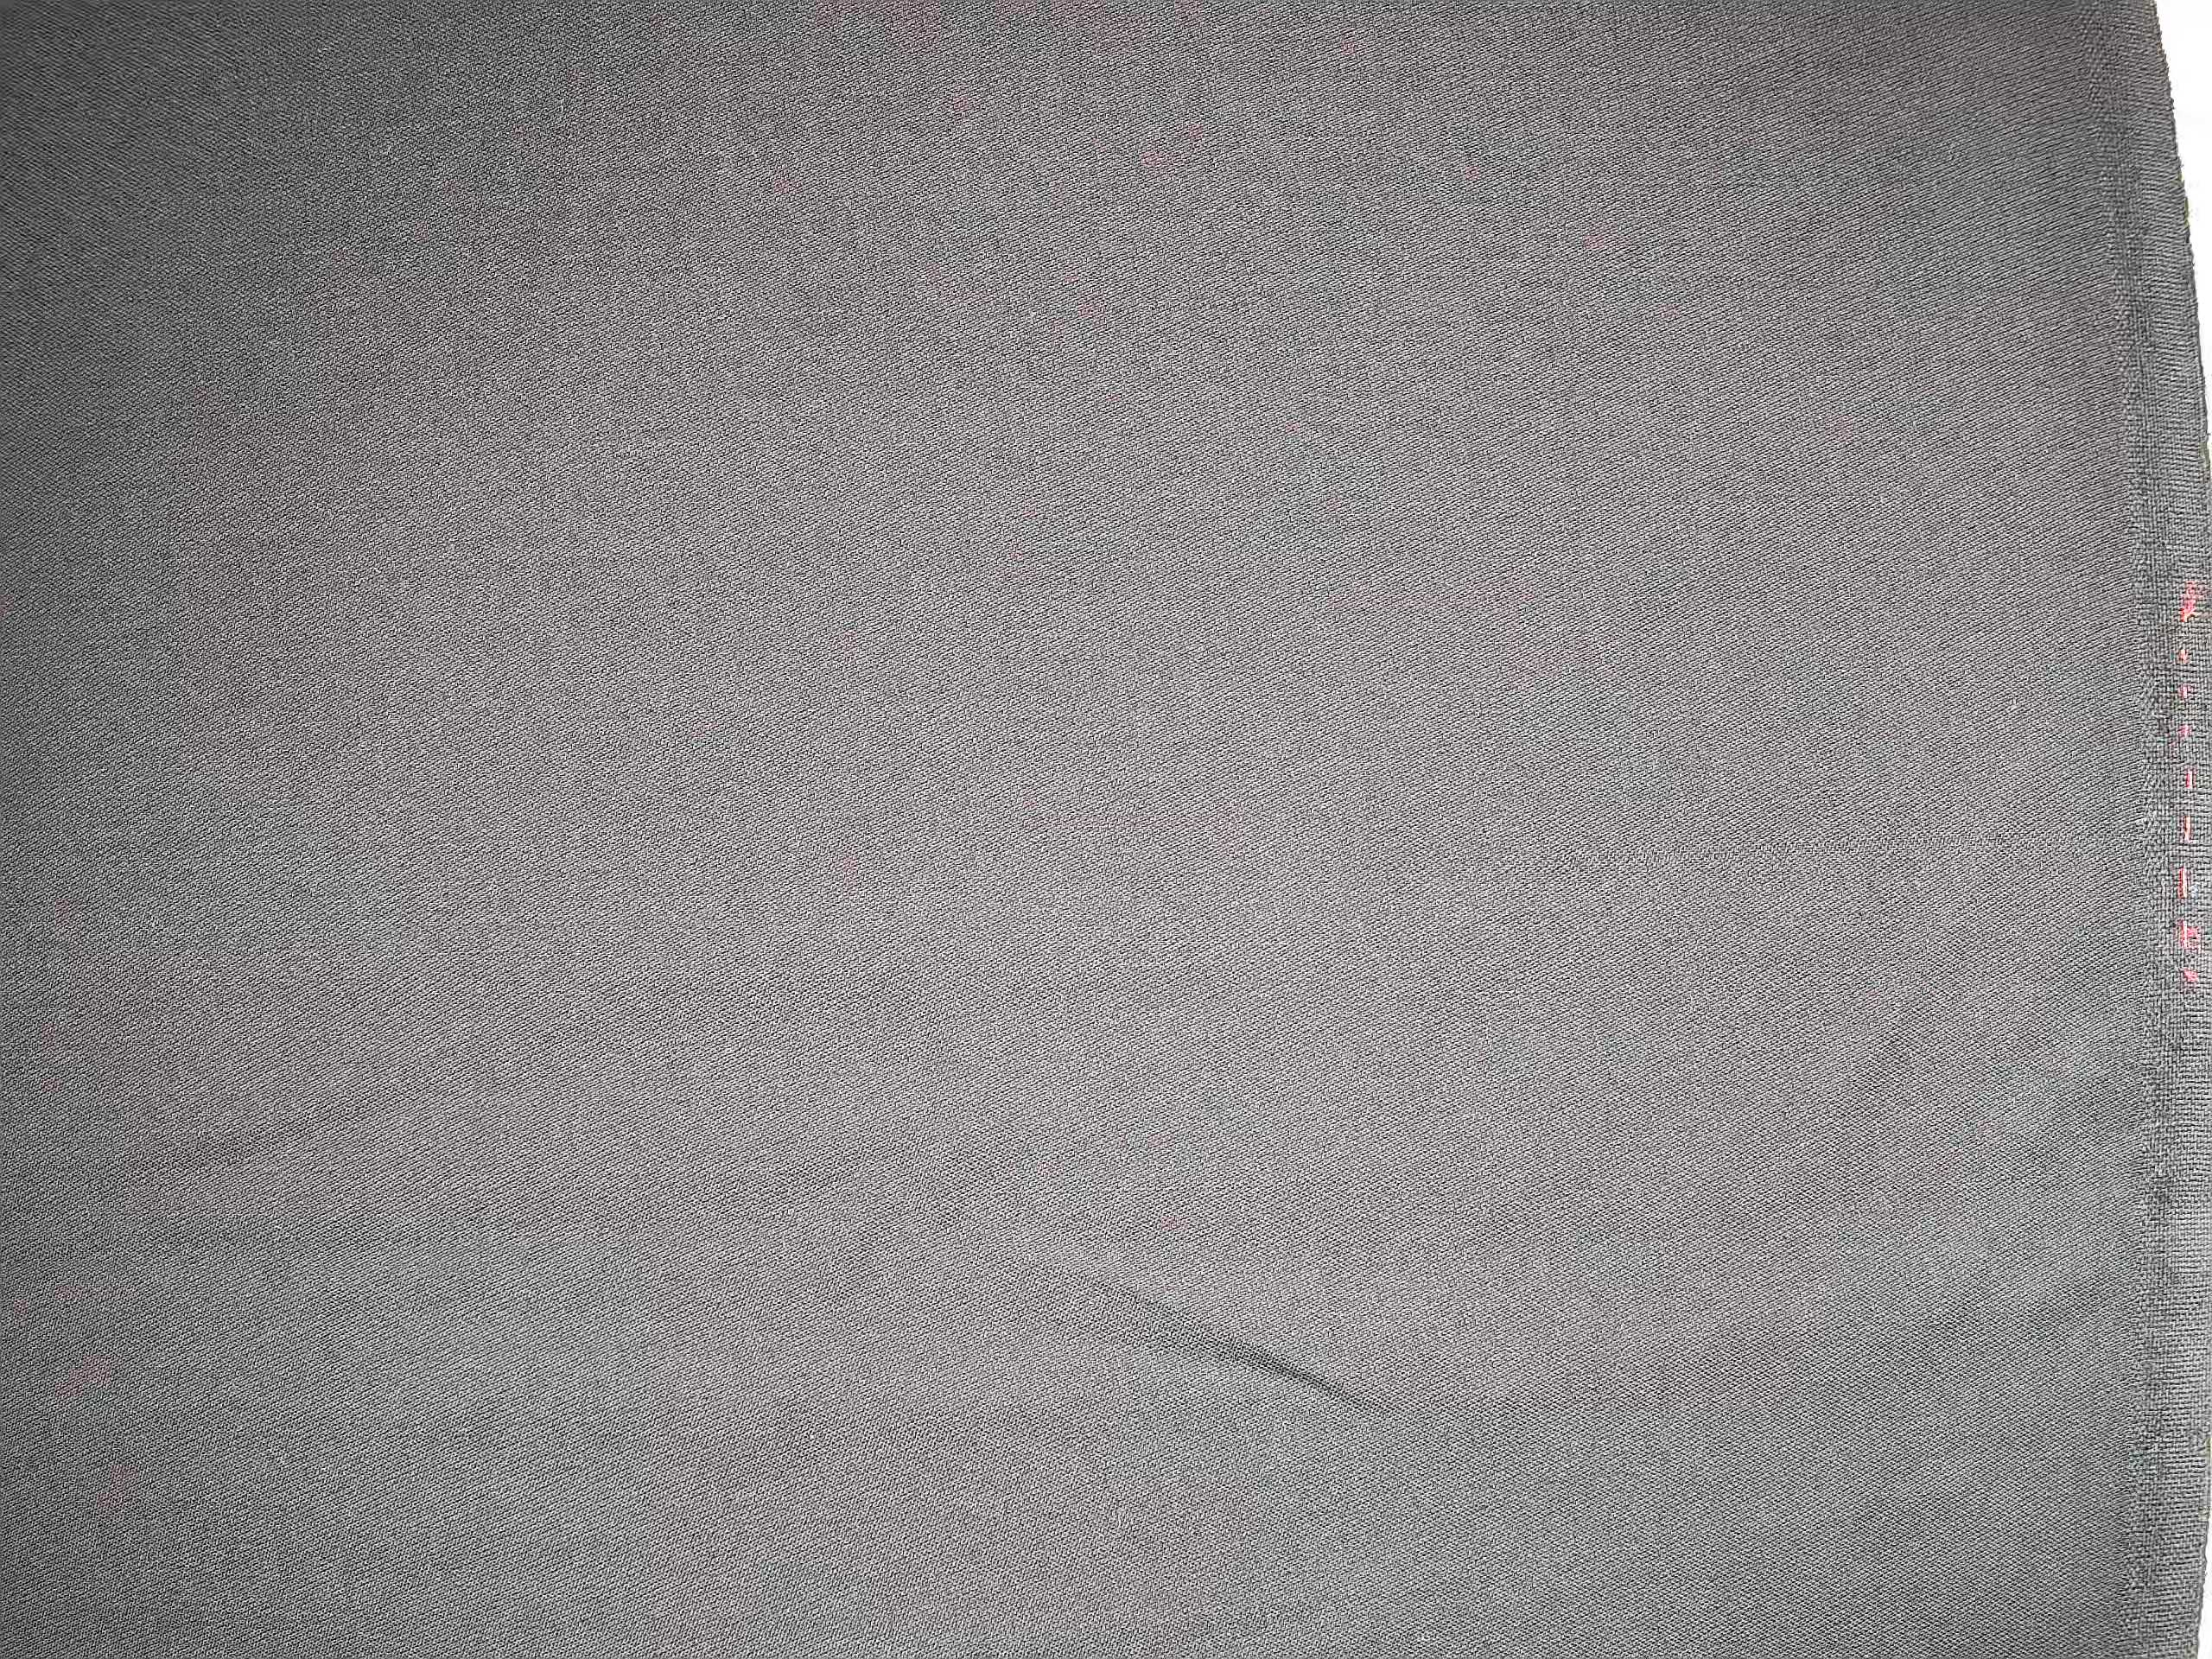thin-spinning: (1463, 805, 2135, 884)
